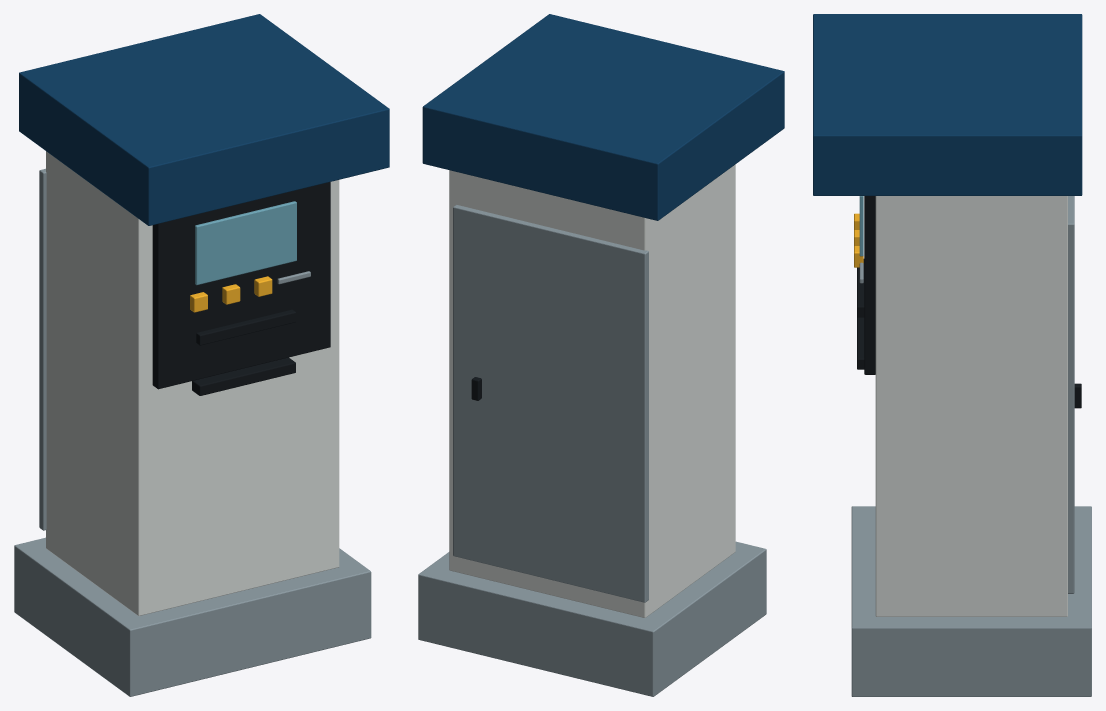
The picture shows the model from 3 angles, left to right: view 1: azimuth 30°, elevation 25°; view 2: azimuth 150°, elevation 25°; view 3: azimuth 270°, elevation 25°; orthographic projection. The views are drawn at different scales.
Parts seen in each view (by area): view 1: CABINET, HOOD, PLINTH, FACE_Recess, SCREEN, SERVICE_Door, TICKET_Mouth.001, TICKET_Mouth; view 2: SERVICE_Door, HOOD, CABINET, PLINTH; view 3: CABINET, HOOD, PLINTH, SERVICE_Door, FACE_Recess.
Boxes of the visible parts, <box> form: CABINET: <box>46,151,339,615</box>; HOOD: <box>19,14,389,225</box>; PLINTH: <box>14,537,371,696</box>; FACE_Recess: <box>152,182,330,389</box>; SCREEN: <box>195,201,296,284</box>; SERVICE_Door: <box>39,168,46,530</box>; TICKET_Mouth.001: <box>192,357,295,395</box>; TICKET_Mouth: <box>196,309,295,345</box>; SERVICE_Door: <box>453,204,648,602</box>; HOOD: <box>422,14,784,220</box>; CABINET: <box>449,164,735,617</box>; PLINTH: <box>418,541,766,696</box>; CABINET: <box>875,196,1067,616</box>; HOOD: <box>813,14,1082,195</box>; PLINTH: <box>851,506,1091,696</box>; SERVICE_Door: <box>1068,196,1074,593</box>; FACE_Recess: <box>864,196,875,374</box>.
Bounding box in the file's own units: 0.6 × 1.29 × 0.58.
